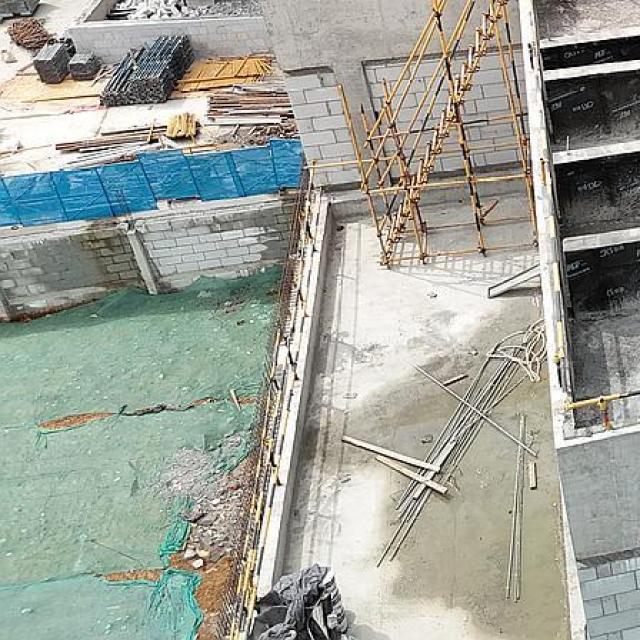edge_guardrail: (525, 10, 640, 429), (227, 158, 323, 640)
